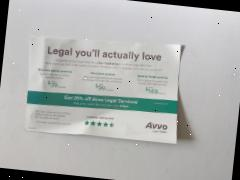paper: (0, 15, 205, 171)
